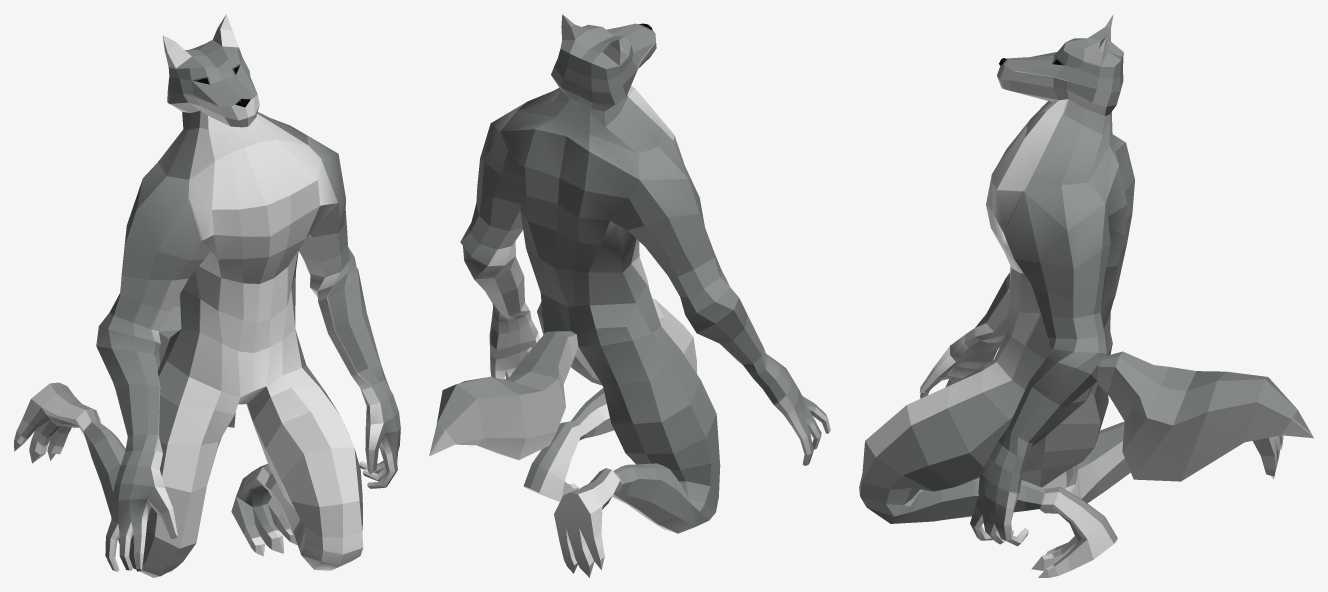
Rendered from WolfDead(29).obj.
The picture shows the model from 3 angles, left to right: view 1: azimuth 30°, elevation 25°; view 2: azimuth 150°, elevation 25°; view 3: azimuth 270°, elevation 25°; orthographic projection. The views are drawn at different scales.
Visible parts, largest first — view 1: Box001; view 2: Box001; view 3: Box001.
Boxes of the visible parts, x1,y1,x2,y2 form: Box001: [14, 14, 400, 577]; Box001: [429, 14, 830, 577]; Box001: [859, 14, 1313, 577].
Bounding box in the file's own units: 74.64 × 119 × 93.67.
